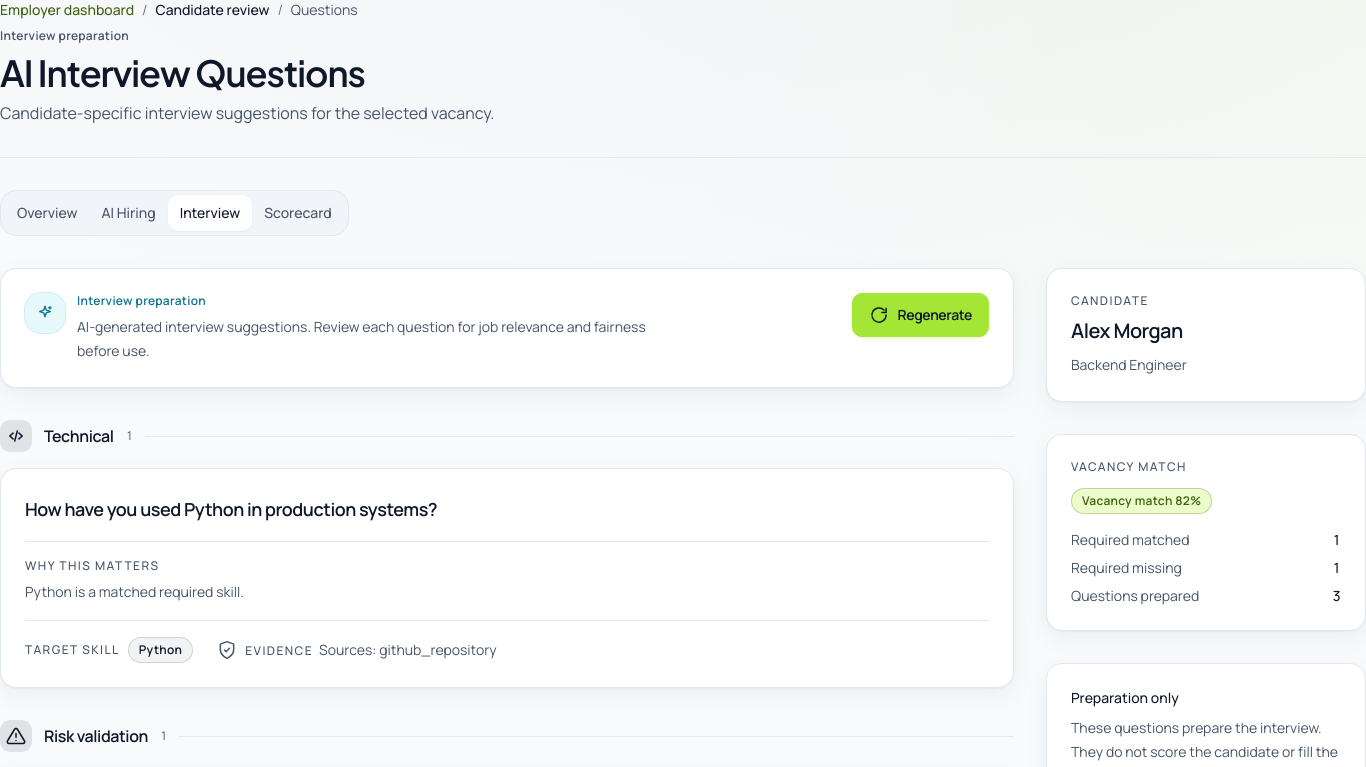
Test: InterviewQuestionsWorkspace › keeps previously visible questions when regenerate fails
The width and height of the screenshot is (1366, 767).
Check: the text "How have you used Python in production systems?" is shown, box [25,497,437,521]
Click the button "Regenerate". click: (921, 315)
box: [852,293,989,337]
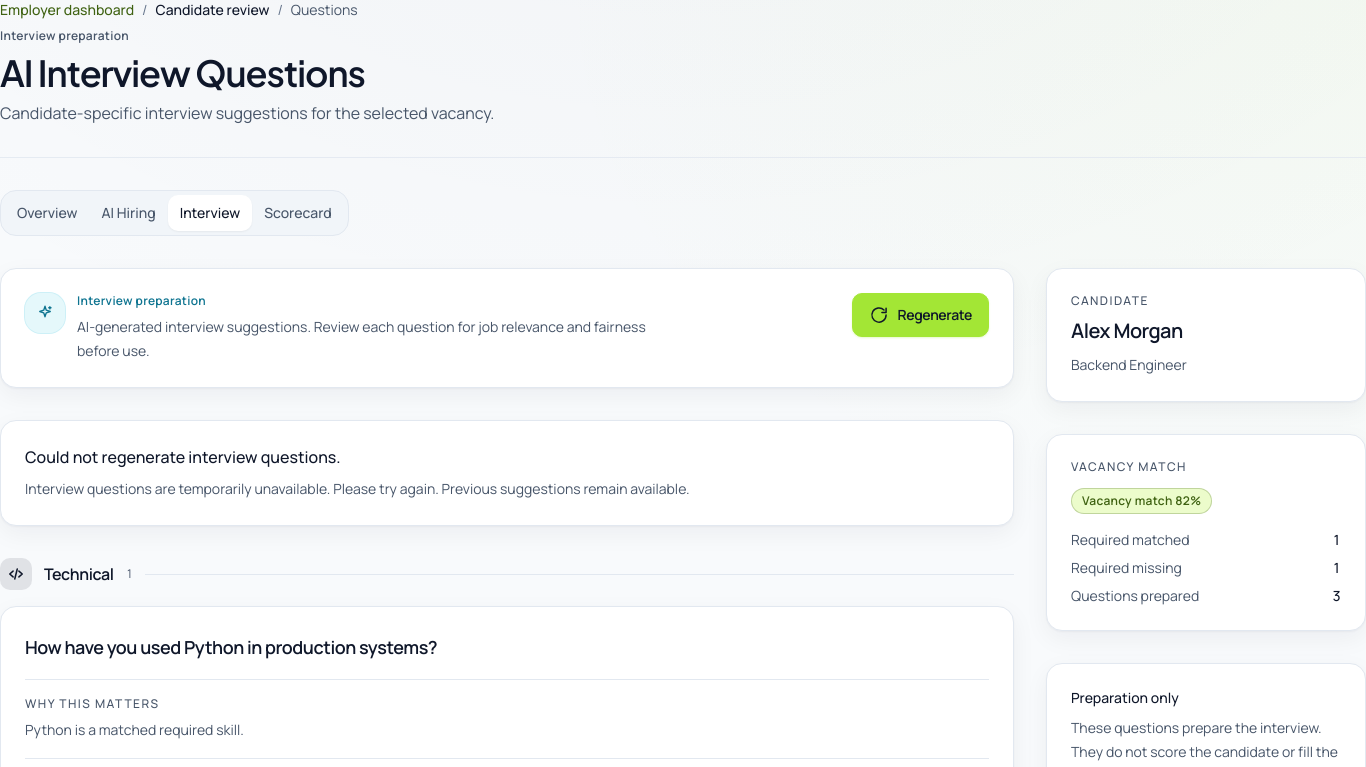
Check: the text "How have you used Python in production systems?" is shown, box [25,635,437,659]
Check: the text "Could not regenerate interview questions." is shown, box [25,446,341,468]
